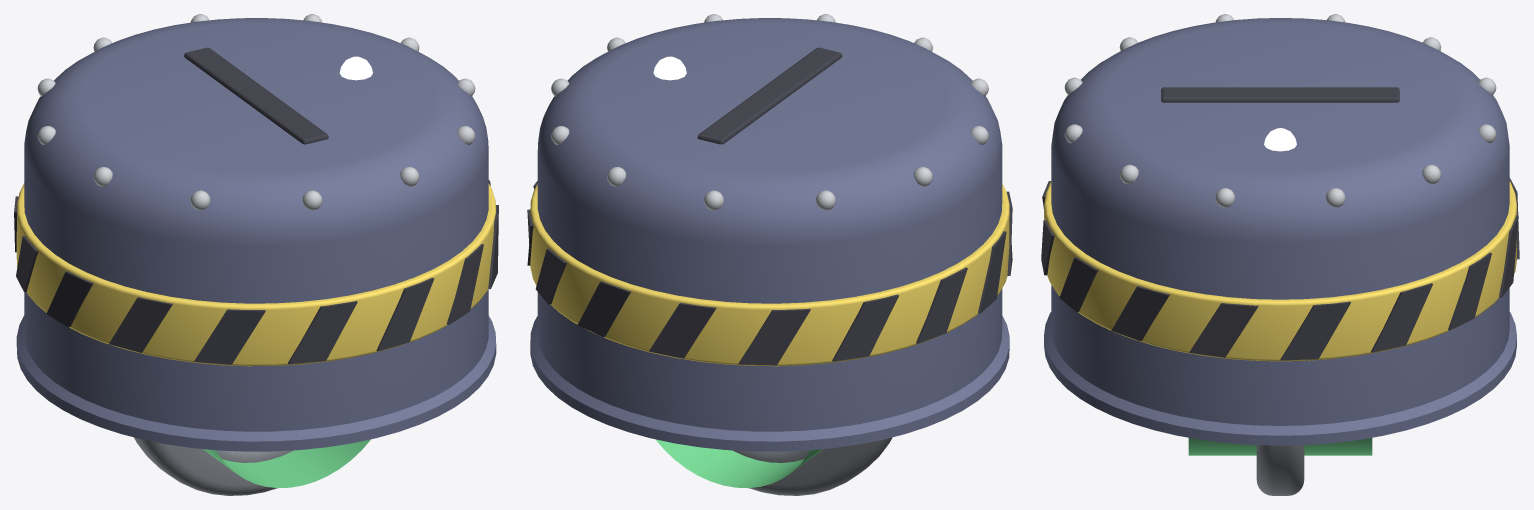
The model's file is SM_PiercerPipe.fbx.
3 views of the same model, side by side, from view 1: azimuth 30°, elevation 25°; view 2: azimuth 150°, elevation 25°; view 3: azimuth 270°, elevation 25° (orthographic).
Parts seen in each view (by area): view 1: SM_PipeHousing, SM_PipeHousing_Band, SM_PipeHousing_Stripes, SM_PipeRim, SM_PipeTube, SM_PipeHousing_Slot, SM_PipeHousing_Rivets, SM_PipeHousing_Lamp; view 2: SM_PipeHousing, SM_PipeHousing_Band, SM_PipeHousing_Stripes, SM_PipeRim, SM_PipeTube, SM_PipeHousing_Slot, SM_PipeHousing_Rivets, SM_PipeHousing_Lamp; view 3: SM_PipeHousing, SM_PipeHousing_Band, SM_PipeHousing_Stripes, SM_PipeHousing_Slot, SM_PipeHousing_Rivets, SM_PipeRim, SM_PipeTube, SM_PipeHousing_Lamp.
Boxes of the visible parts, x1,y1,x2,y2 form: SM_PipeHousing: [16, 18, 496, 451]; SM_PipeHousing_Band: [16, 183, 496, 366]; SM_PipeHousing_Stripes: [14, 180, 498, 364]; SM_PipeRim: [134, 437, 293, 495]; SM_PipeTube: [203, 439, 370, 488]; SM_PipeHousing_Slot: [184, 47, 328, 144]; SM_PipeHousing_Rivets: [37, 14, 475, 210]; SM_PipeHousing_Lamp: [339, 56, 372, 80]; SM_PipeHousing: [530, 18, 1009, 451]; SM_PipeHousing_Band: [530, 184, 1009, 366]; SM_PipeHousing_Stripes: [527, 181, 1012, 365]; SM_PipeRim: [732, 437, 892, 495]; SM_PipeTube: [655, 439, 823, 488]; SM_PipeHousing_Slot: [697, 47, 842, 144]; SM_PipeHousing_Rivets: [551, 14, 988, 210]; SM_PipeHousing_Lamp: [653, 56, 686, 80]; SM_PipeHousing: [1044, 18, 1516, 445]; SM_PipeHousing_Band: [1044, 181, 1516, 361]; SM_PipeHousing_Stripes: [1041, 178, 1519, 360]; SM_PipeHousing_Slot: [1161, 87, 1399, 102]; SM_PipeHousing_Rivets: [1064, 14, 1496, 207]; SM_PipeRim: [1256, 445, 1304, 495]; SM_PipeTube: [1188, 438, 1372, 455]; SM_PipeHousing_Lamp: [1264, 128, 1296, 151].
Bounding box in the file's own units: 2.61 × 2.41 × 2.61.
